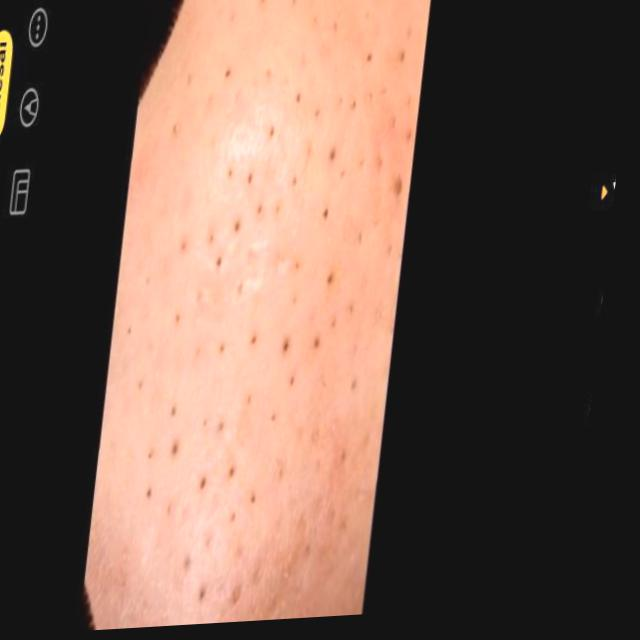blackhead: (135, 21, 415, 627)
